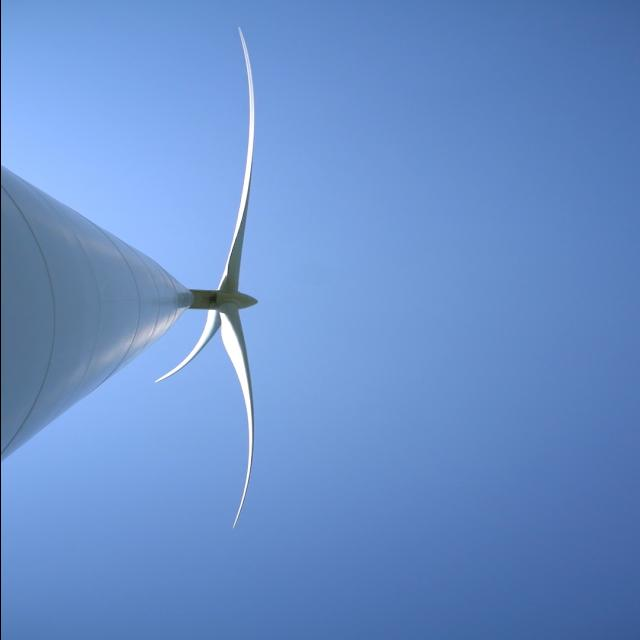blade 1: (218, 333, 258, 598)
blade 2: (150, 330, 207, 390)
blade 3: (213, 28, 286, 278)
